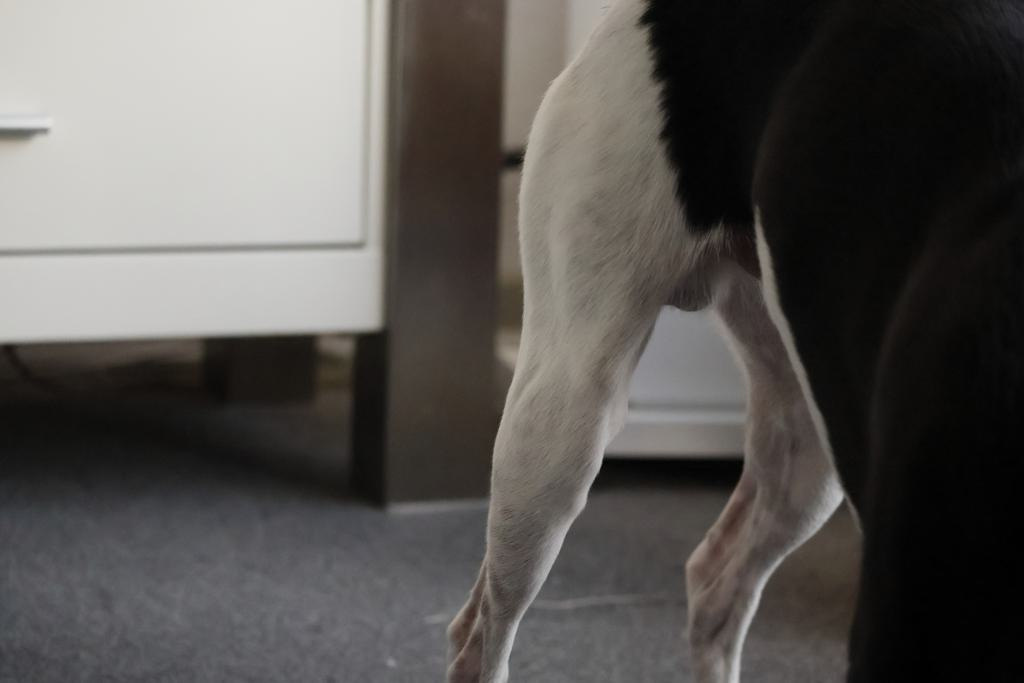Dog: (423, 0, 1024, 683)
